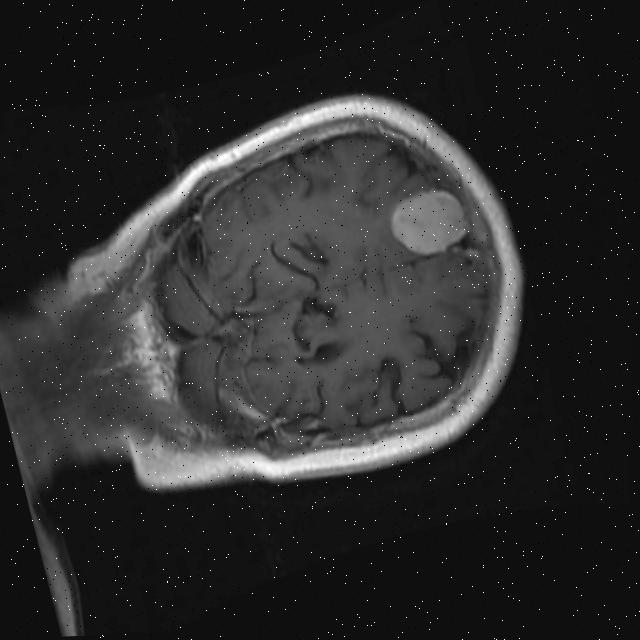Meningioma: (380, 176, 477, 268)
